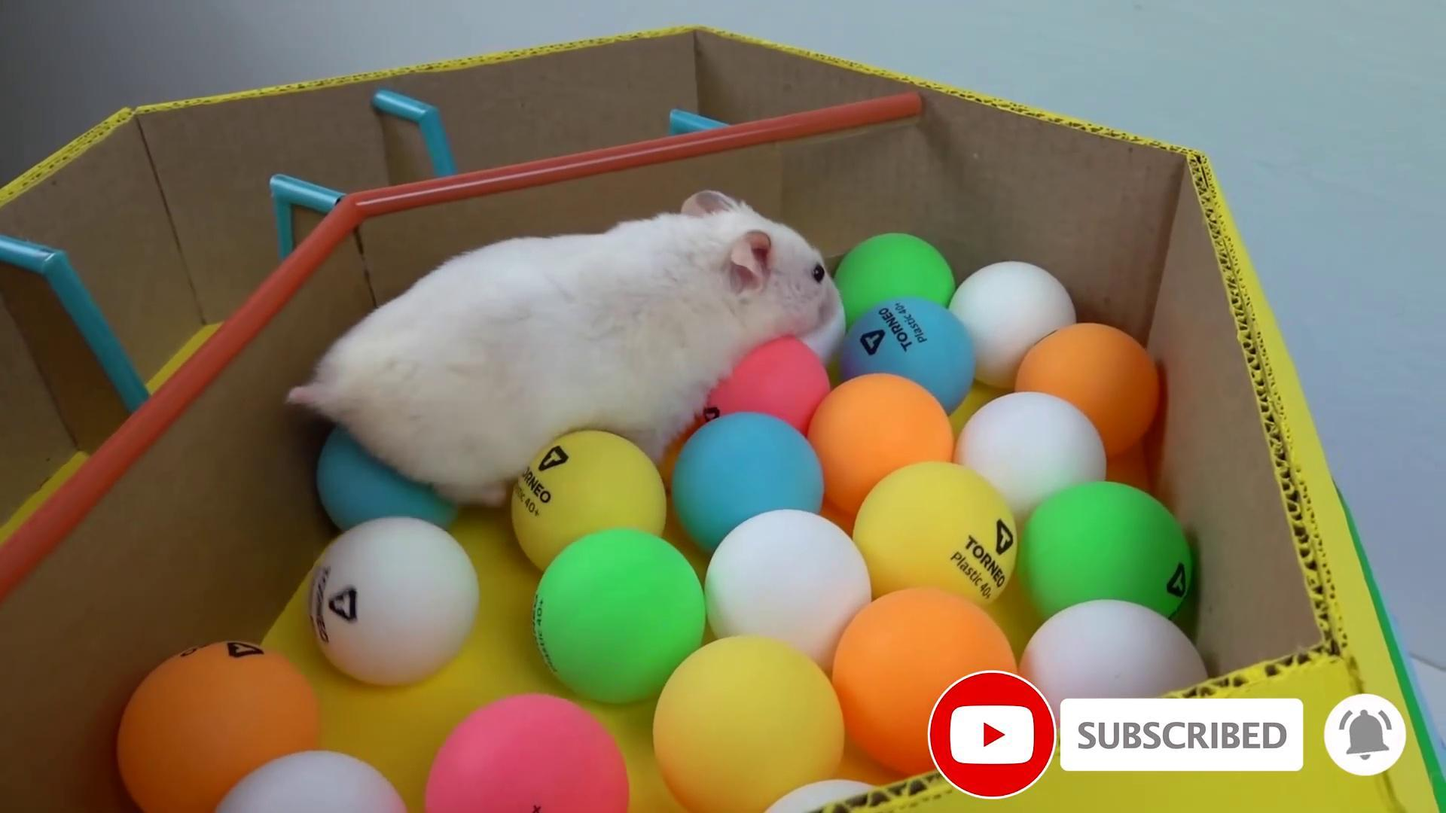rat: (285, 188, 847, 496)
